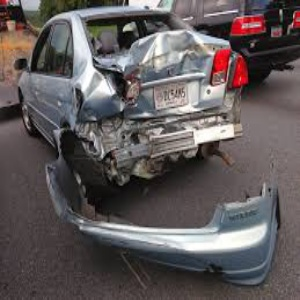bonnet: (123, 29, 209, 81)
bumper: (101, 117, 240, 185)
